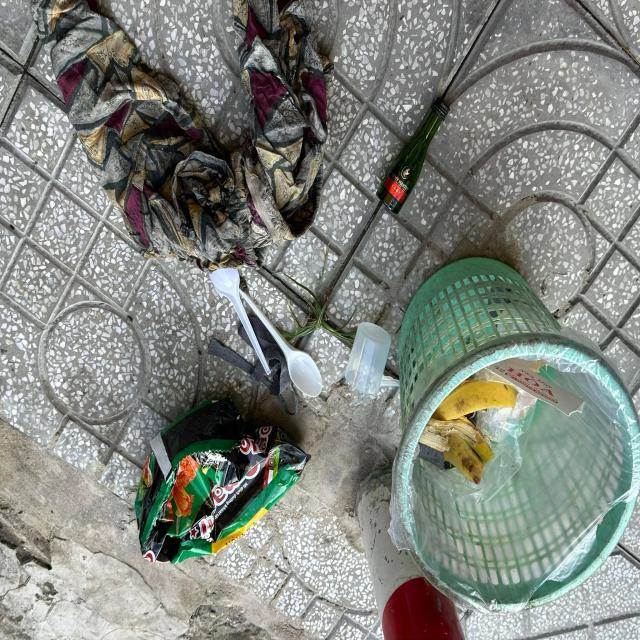bottle: (376, 96, 448, 217)
clothes: (32, 0, 334, 272)
plastic utensil: (238, 288, 324, 396), (208, 268, 272, 378), (345, 323, 391, 394)
snack package: (137, 398, 311, 564)
